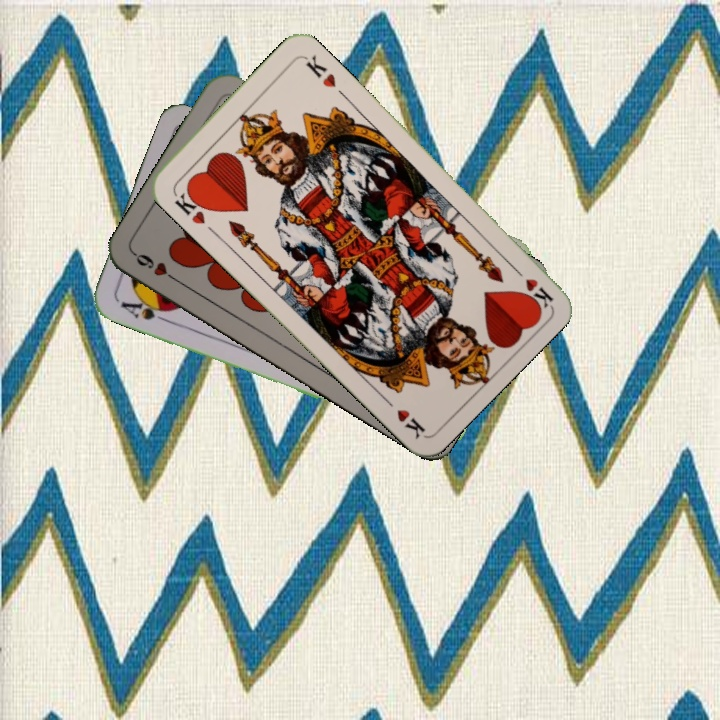H9: (130, 249, 183, 286)
HK: (505, 259, 555, 309), (170, 184, 212, 227)
SA: (116, 293, 173, 325)
